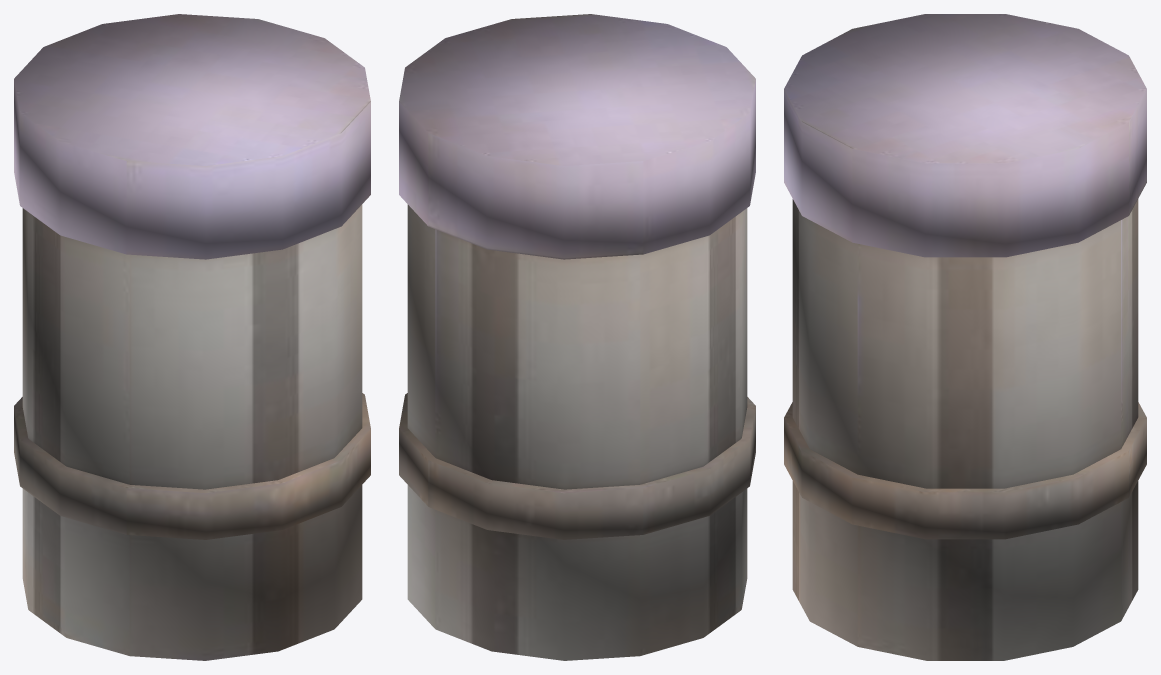
File: bucket.glb
3 renders of one model, left to right at view 1: azimuth 30°, elevation 25°; view 2: azimuth 150°, elevation 25°; view 3: azimuth 270°, elevation 25°, orthographic.
Parts seen in each view (by area): view 1: bucket; view 2: bucket; view 3: bucket.
Part boxes in pixels (left/top/right/bottom): bucket: left=14, top=14, right=370, bottom=660; bucket: left=399, top=14, right=755, bottom=660; bucket: left=784, top=14, right=1146, bottom=660.
Size of the model in its own units: 0.2047 by 0.32 by 0.21.
Materials: 1 (1 with a texture image).
